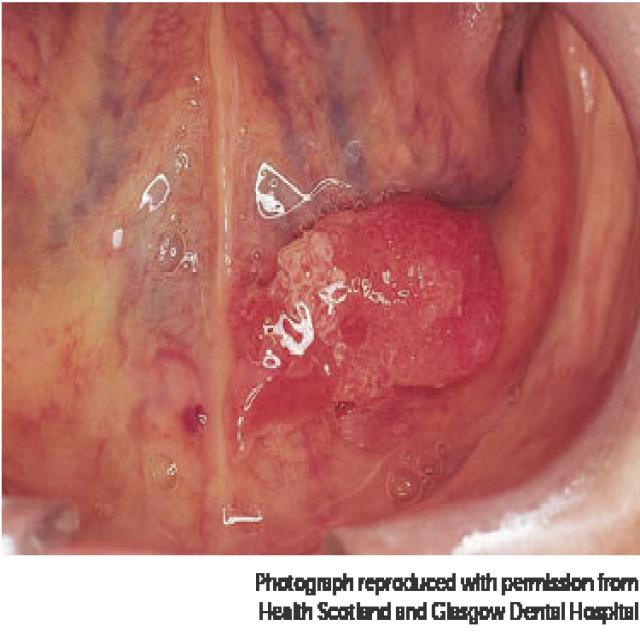Cancer: (204, 186, 518, 451)
